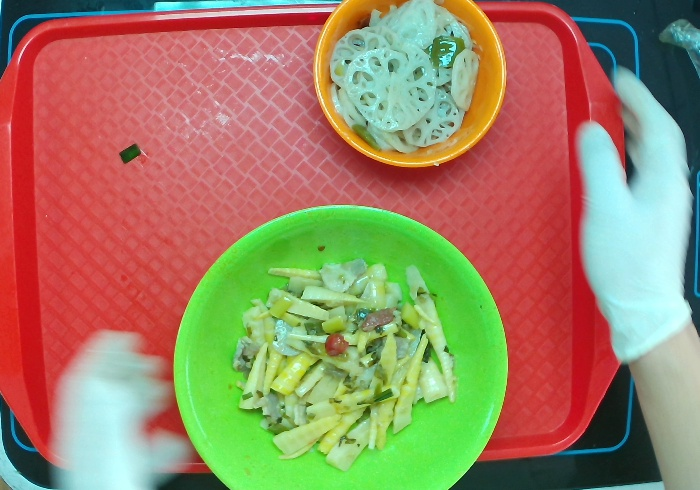YKMZ-Ju_Se_Yuan_Wan: (311, 1, 508, 169)
YKMZ-Lv_Se_Tang_Wan: (172, 202, 509, 490)
